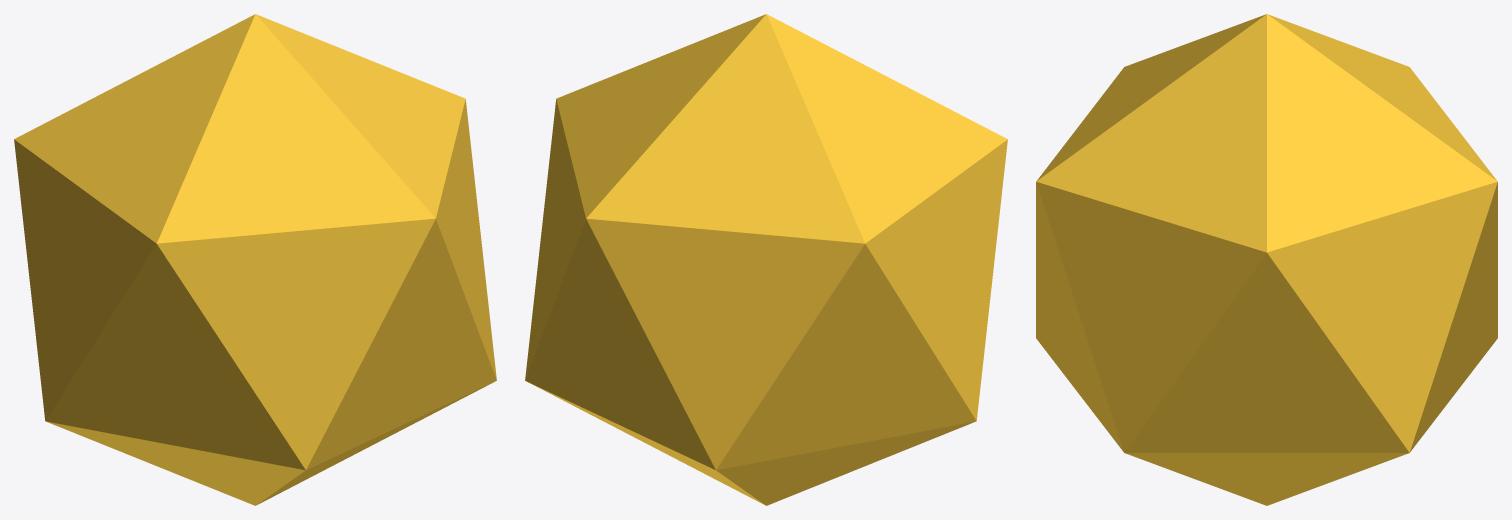
Rendered from LuminousOrb.fbx.
3 renders of one model, left to right at view 1: azimuth 30°, elevation 25°; view 2: azimuth 150°, elevation 25°; view 3: azimuth 270°, elevation 25°, orthographic.
Visible parts, largest first — view 1: EXPORT_LuminousOrb; view 2: EXPORT_LuminousOrb; view 3: EXPORT_LuminousOrb.
Boxes of the visible parts, x1,y1,x2,y2 form: EXPORT_LuminousOrb: [14, 14, 496, 505]; EXPORT_LuminousOrb: [525, 14, 1007, 505]; EXPORT_LuminousOrb: [1036, 14, 1497, 505].
Bounding box in the file's own units: 32.2 × 36 × 30.62.
